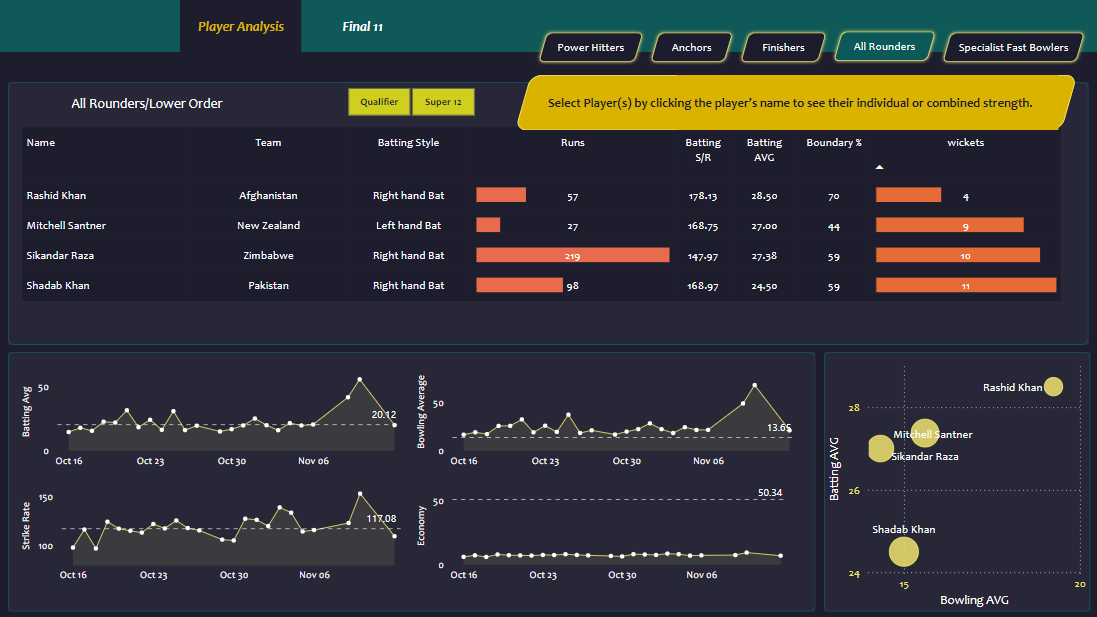

This screenshot's page, from the dashboard's own definition file:
{"tool":"powerbi","page":{"name":"All Rounders/Lower Order","canvas":[1280,720],"ordinal":3},"visuals":[{"type":"shape","box":[0,60.4,1280,659.3],"z":0},{"type":"shape","box":[11.6,101.5,1259.4,308.4],"z":1000},{"type":"shape","box":[961.3,410,309.7,302],"z":2000},{"type":"shape","box":[11.6,95.1,1256.9,305.9],"z":3000},{"type":"tableEx","fields":{"Values":["dim_players.name","dim_players.team","dim_players.battingStyle","Key_Measures.TOTAL RUNS","Key_Measures.Strike Rate","Key_Measures.Batting Average","Key_Measures.Boundary %","Key_Measures.wickets"]},"box":[21.8,128.5,1222.2,272.4],"z":4000},{"type":"slicer","fields":{"Values":["dim_match_result.stage"]},"box":[381.7,95.1,196.6,46],"z":5000},{"type":"shape","box":[82.9,102.3,188,34.6],"z":6000},{"type":"shape","box":[601.4,87.4,654.1,64.3],"z":7000},{"type":"card","fields":{"Values":["Key_Measures.Boundary %"]},"box":[1121.9,87.4,110.5,64.3],"z":8000},{"type":"card","fields":{"Values":["Key_Measures.Average Ball Faced"]},"box":[1006.3,87.4,115.7,64.3],"z":9000},{"type":"card","fields":{"Values":["Key_Measures.Batting Average"]},"box":[790.4,87.4,104.1,64.3],"z":10000},{"type":"card","fields":{"Values":["Key_Measures.Strike Rate"]},"box":[894.5,87.4,111.8,64.3],"z":11000},{"type":"shape","box":[578.3,75.8,280.2,87.4],"z":12000},{"type":"shape","box":[11.6,410,939.4,302],"z":13000},{"type":"actionButton","box":[624.6,33.4,129.8,42.4],"z":14000},{"type":"actionButton","box":[754.7,33.4,104.1,42.4],"z":15000},{"type":"actionButton","box":[859.2,33.4,108,42.4],"z":16000},{"type":"actionButton","box":[967.6,33,127,42.4],"z":17000},{"type":"actionButton","box":[1094.9,33.4,173.5,42.4],"z":18000},{"type":"areaChart","title":"Batting AVG","fields":{"Y":["Key_Measures.Batting Average"],"Category":["dim_match_result.matchDate"]},"box":[21.8,420.2,460.1,132.4],"z":19000},{"type":"areaChart","title":"Batting AVG","fields":{"Category":["dim_match_result.matchDate"],"Y":["Key_Measures.Bowling Average"]},"box":[481.9,420.2,460.1,132.4],"z":20000},{"type":"areaChart","title":"Batting AVG","fields":{"Category":["dim_match_result.matchDate"],"Y":["Key_Measures.Strike Rate"]},"box":[21.8,552.6,460.1,132.4],"z":21000},{"type":"areaChart","title":"Batting AVG","fields":{"Category":["dim_match_result.matchDate"],"Y":["Key_Measures.Bowling Economy"]},"box":[481.9,552.6,449.8,132.4],"z":22000},{"type":"actionButton","box":[212,0,141.4,61],"z":23000},{"type":"actionButton","box":[353.4,0,141.4,60.4],"z":24000},{"type":"shape","box":[570.6,75.8,700.4,87.4],"z":25000},{"type":"scatterChart","fields":{"X":["Key_Measures.Bowling Average"],"Y":["Key_Measures.Batting Average"],"Category":["dim_players.name"],"Size":["Key_Measures.wickets"]},"box":[960.7,411.9,309.6,300],"z":26000}]}

Visuals, with their boxes in screenshot pixels (x1, y1, x2, y2), scaled from the page's 1280x720 canvas onto the 1097x617 screenshot:
shape: x1=0, y1=52, x2=1096, y2=616
shape: x1=10, y1=87, x2=1089, y2=351
shape: x1=824, y1=351, x2=1089, y2=610
shape: x1=10, y1=81, x2=1087, y2=344
tableEx - dim_players.name x dim_players.team: x1=19, y1=110, x2=1066, y2=344
slicer - dim_match_result.stage: x1=327, y1=81, x2=496, y2=121
shape: x1=71, y1=88, x2=232, y2=117
shape: x1=515, y1=75, x2=1076, y2=130
card - Key_Measures.Boundary %: x1=962, y1=75, x2=1056, y2=130
card - Key_Measures.Average Ball Faced: x1=862, y1=75, x2=962, y2=130
card - Key_Measures.Batting Average: x1=677, y1=75, x2=767, y2=130
card - Key_Measures.Strike Rate: x1=767, y1=75, x2=862, y2=130
shape: x1=496, y1=65, x2=736, y2=140
shape: x1=10, y1=351, x2=815, y2=610
actionButton: x1=535, y1=29, x2=647, y2=65
actionButton: x1=647, y1=29, x2=736, y2=65
actionButton: x1=736, y1=29, x2=829, y2=65
actionButton: x1=829, y1=28, x2=938, y2=65
actionButton: x1=938, y1=29, x2=1087, y2=65
"Batting AVG" areaChart: x1=19, y1=360, x2=413, y2=474
"Batting AVG" areaChart: x1=413, y1=360, x2=807, y2=474
"Batting AVG" areaChart: x1=19, y1=474, x2=413, y2=587
"Batting AVG" areaChart: x1=413, y1=474, x2=798, y2=587
actionButton: x1=182, y1=0, x2=303, y2=52
actionButton: x1=303, y1=0, x2=424, y2=52
shape: x1=489, y1=65, x2=1089, y2=140
scatterChart - Key_Measures.Bowling Average x Key_Measures.Batting Average: x1=823, y1=353, x2=1089, y2=610
